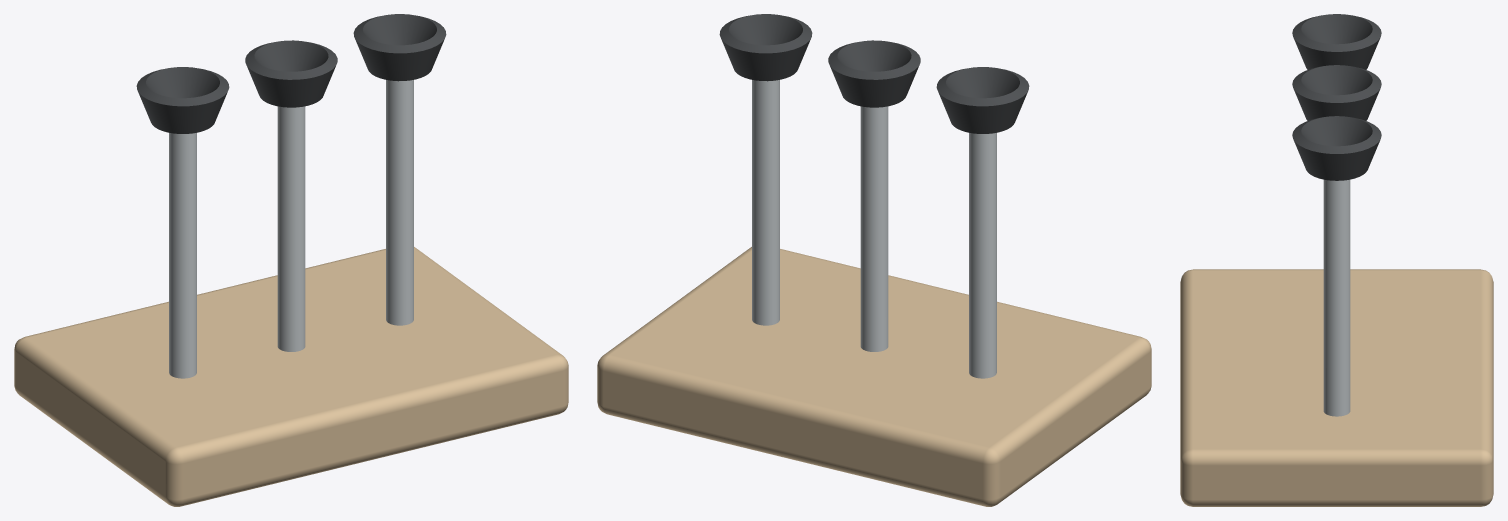
File: camera-repair-and-darkroom-laboratory-lens-suction-too-ab01ab62__31786.glb
The picture shows the model from 3 angles, left to right: view 1: azimuth 30°, elevation 25°; view 2: azimuth 150°, elevation 25°; view 3: azimuth 270°, elevation 25°; orthographic projection. The views are drawn at different scales.
Visible parts, largest first — view 1: lens-suction-tool-stand; view 2: lens-suction-tool-stand; view 3: lens-suction-tool-stand.
Boxes of the visible parts, left/top/right/bottom form: lens-suction-tool-stand: left=14, top=14, right=568, bottom=506; lens-suction-tool-stand: left=597, top=14, right=1151, bottom=506; lens-suction-tool-stand: left=1180, top=14, right=1493, bottom=506.
Size of the model in its own units: 0.1 by 0.083 by 0.07.
